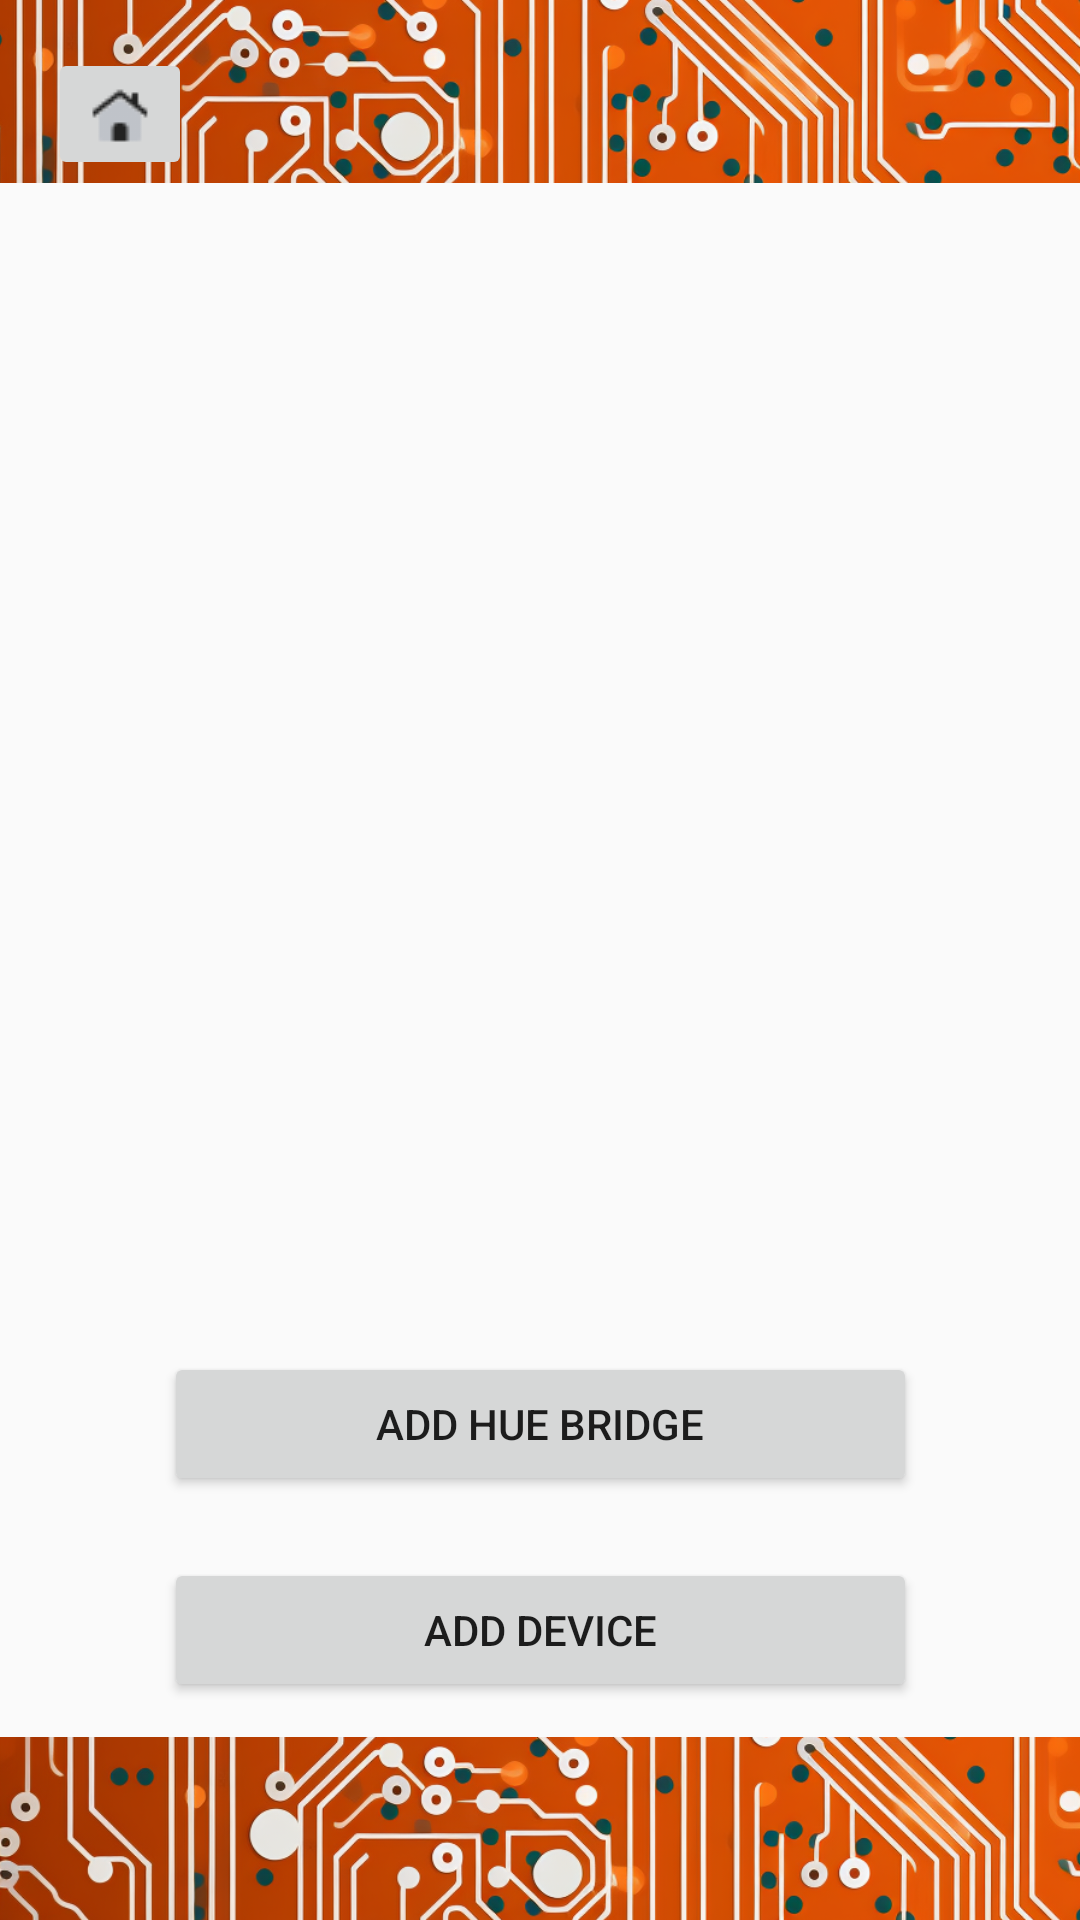

Where to tap for icons on this 1080w x 1920h app screen, as [x,y]:
home duotone: [120,114]
